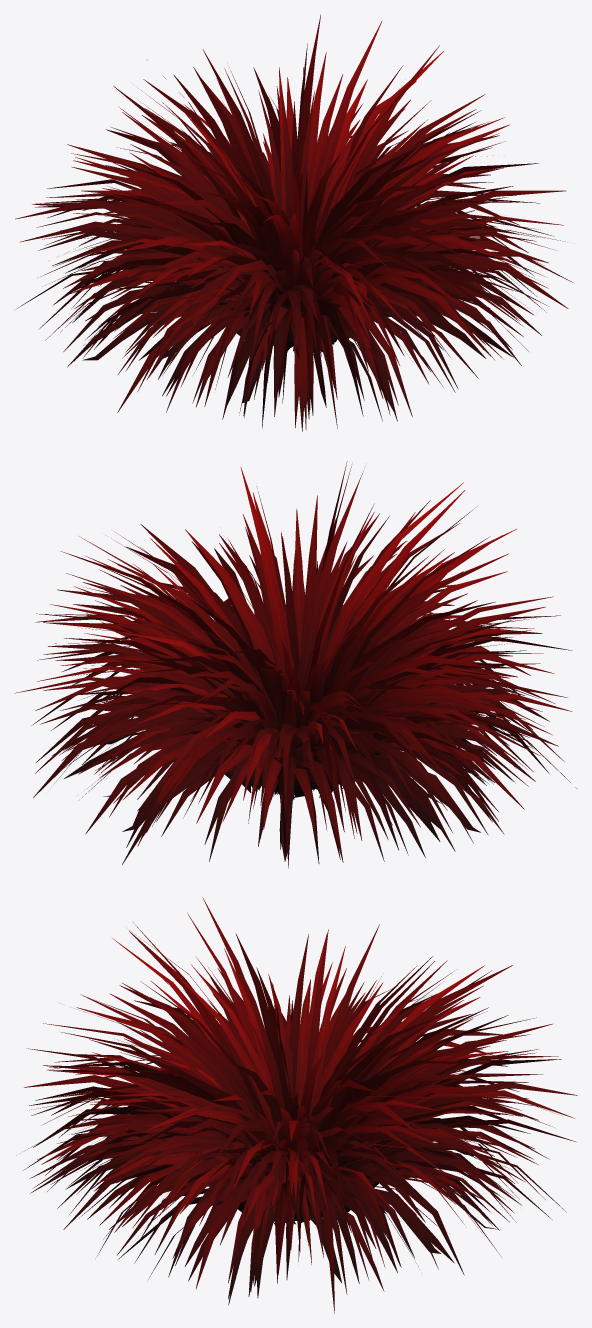
Rendered from alpine_tussock_v01.glb.
The picture shows the model from 3 angles, top to bottom: view 1: azimuth 30°, elevation 25°; view 2: azimuth 150°, elevation 25°; view 3: azimuth 270°, elevation 25°; orthographic projection. The views are drawn at different scales.
Visible parts, largest first — view 1: alpine_tussock_v01; view 2: alpine_tussock_v01; view 3: alpine_tussock_v01.
Part boxes in pixels (bbox=[...]): alpine_tussock_v01: bbox=[15, 14, 574, 431]; alpine_tussock_v01: bbox=[14, 461, 577, 868]; alpine_tussock_v01: bbox=[16, 897, 577, 1313].
Bounding box in the file's own units: 0.4705 × 0.2401 × 0.476.
Materials: 1 (1 with a texture image).
